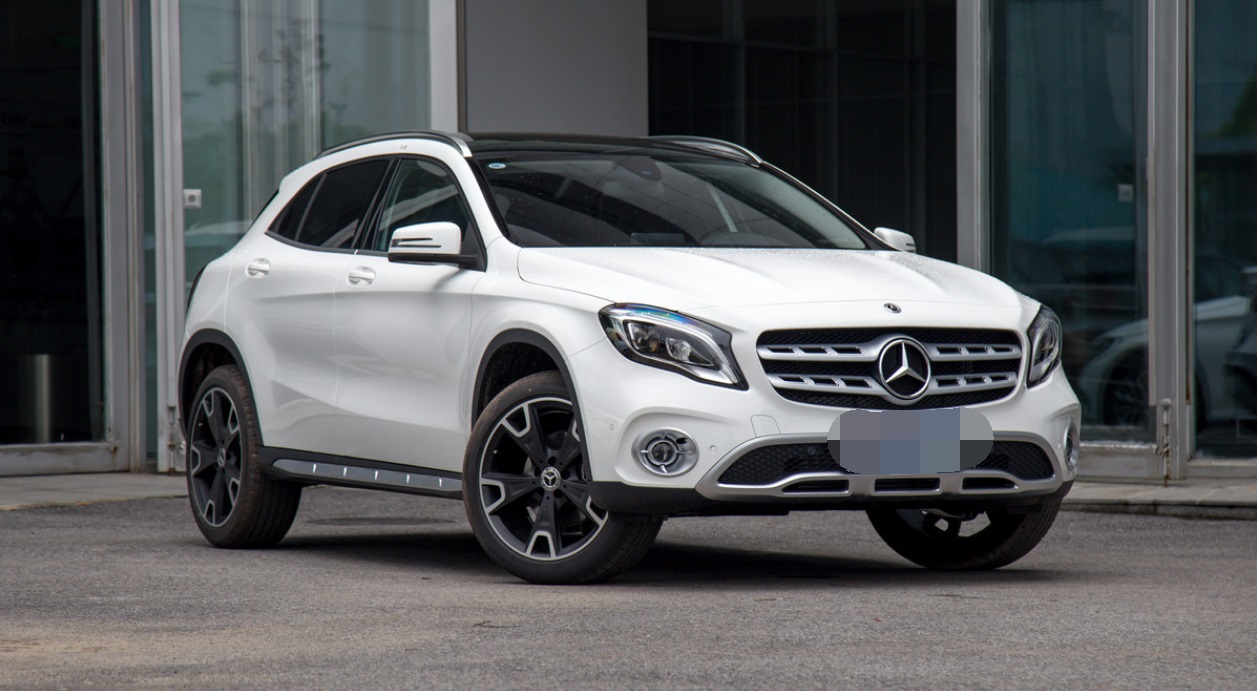SUV: (173, 128, 1087, 588)
